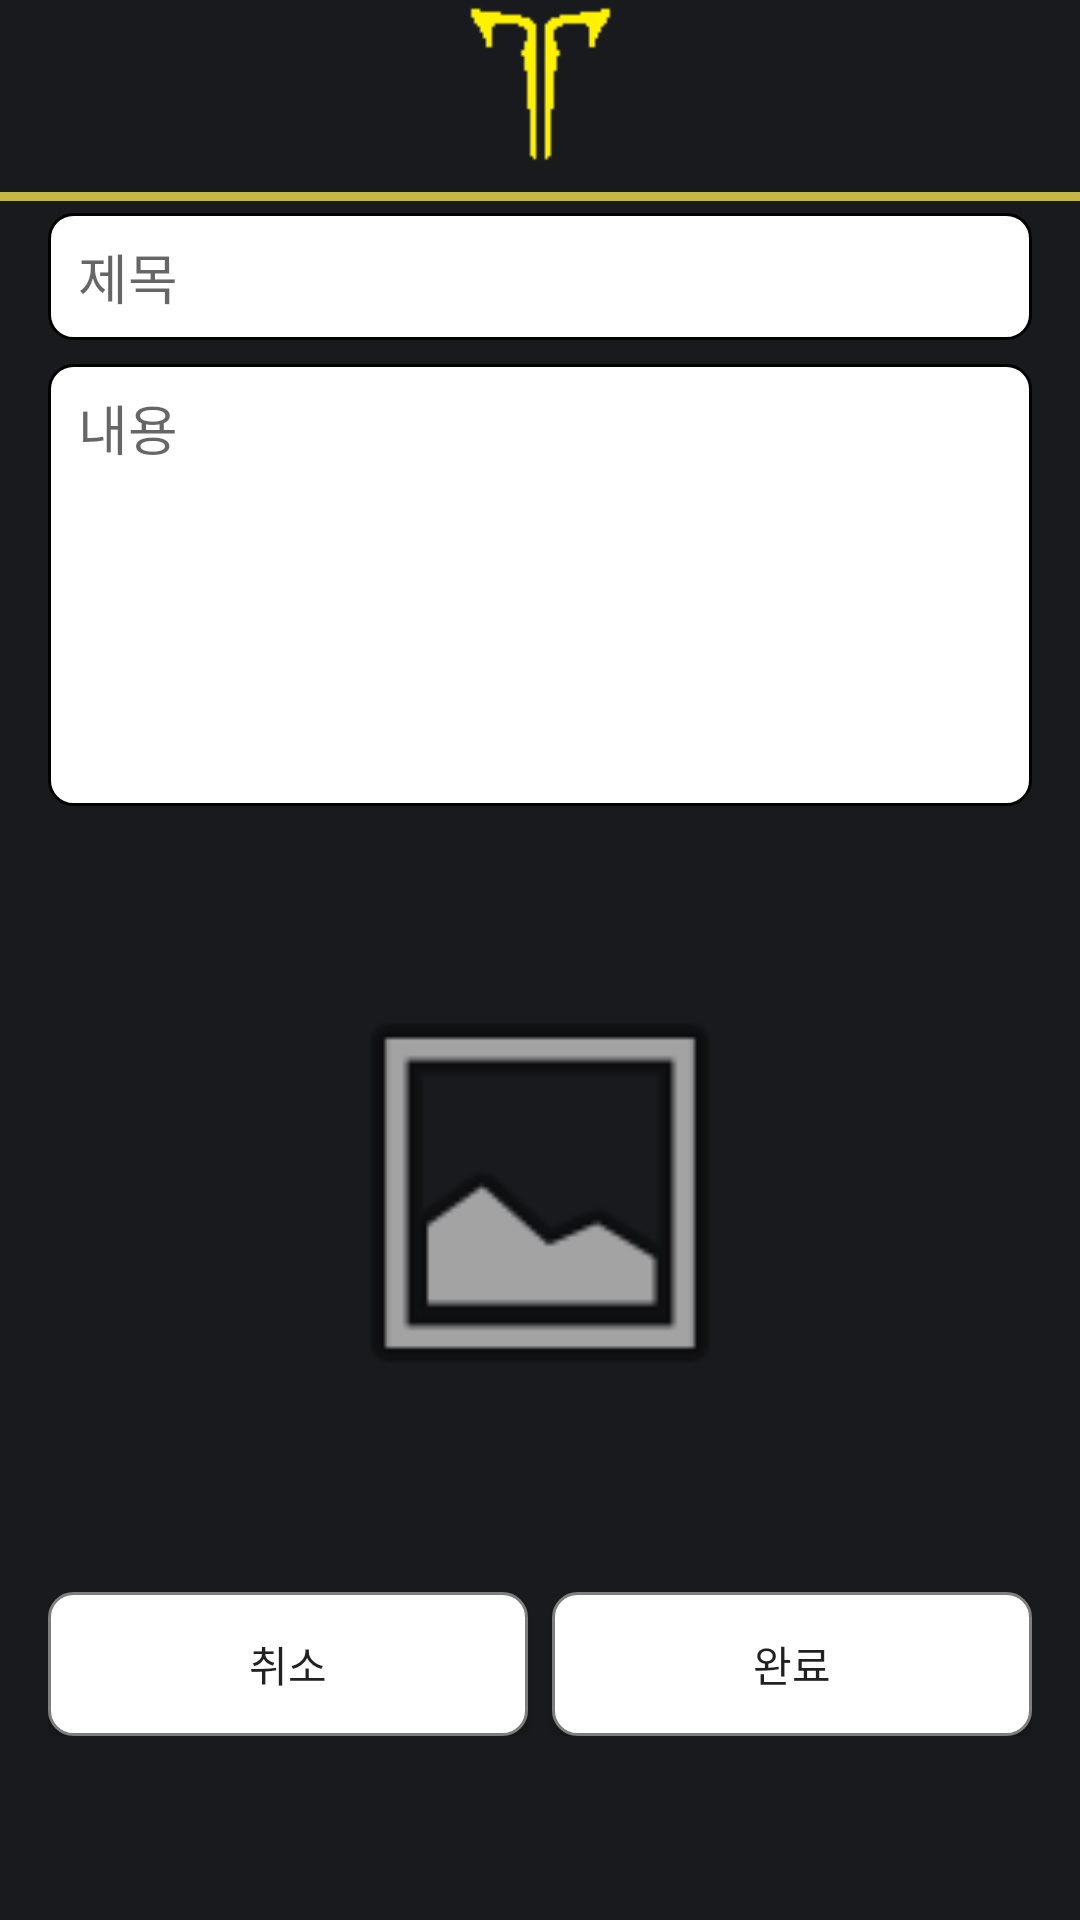

Named icons in this screenshot (1080×1920) and their centers, [x,y]:
gallery: [540,1193]
